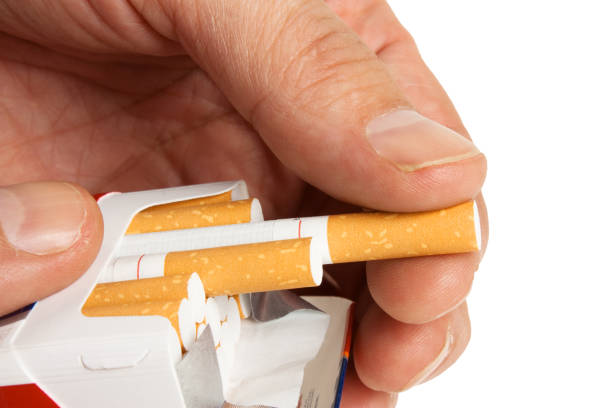cigarette: (0, 178, 358, 408), (115, 199, 482, 265), (98, 235, 324, 297), (72, 297, 198, 351), (85, 271, 207, 323), (125, 198, 264, 234), (136, 190, 238, 211)
